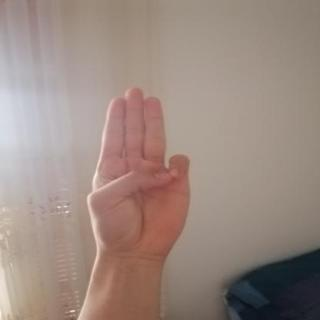THA: (73, 78, 202, 267)
